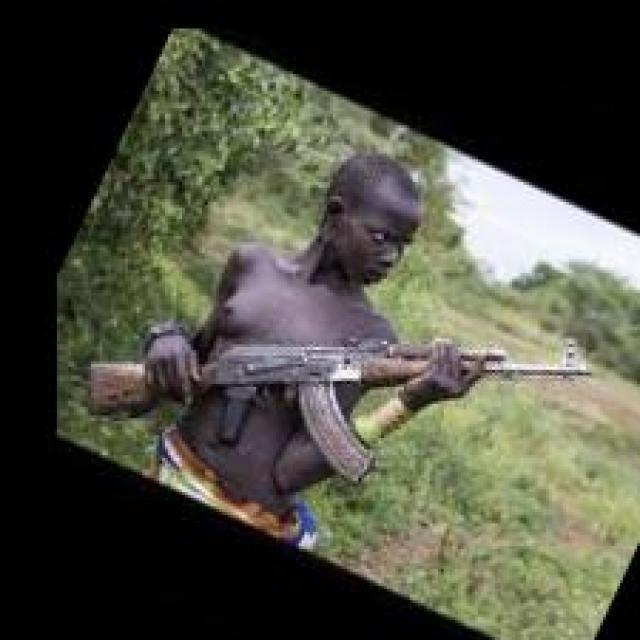weapon: (84, 339, 594, 486)
